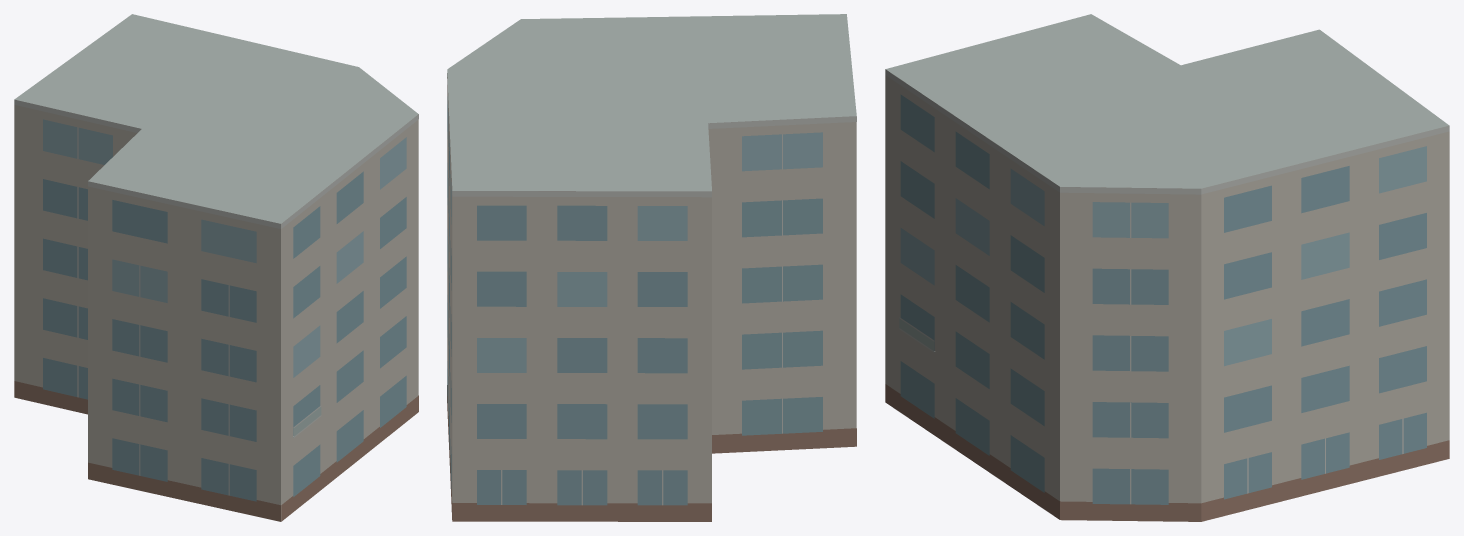
File: survey-upis-32782877.glb
3 views of the same model, side by side, from view 1: azimuth 30°, elevation 25°; view 2: azimuth 150°, elevation 25°; view 3: azimuth 270°, elevation 25° (orthographic). The views are drawn at different scales.
Visible parts, largest first — view 1: survey-upis-32782877.tmp; view 2: survey-upis-32782877.tmp; view 3: survey-upis-32782877.tmp.
Boxes of the visible parts, x1,y1,x2,y2 form: survey-upis-32782877.tmp: (14,14,418,521); survey-upis-32782877.tmp: (447,14,856,521); survey-upis-32782877.tmp: (885,14,1449,521).
Bounding box in the file's own units: 15.63 × 13.89 × 21.33.
